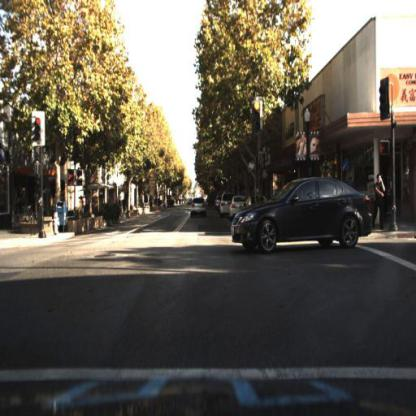car: (230, 171, 376, 255), (186, 187, 213, 225)
pedestrian: (373, 170, 388, 234)
trafficLight-Red: (252, 98, 262, 134), (34, 112, 44, 145)
